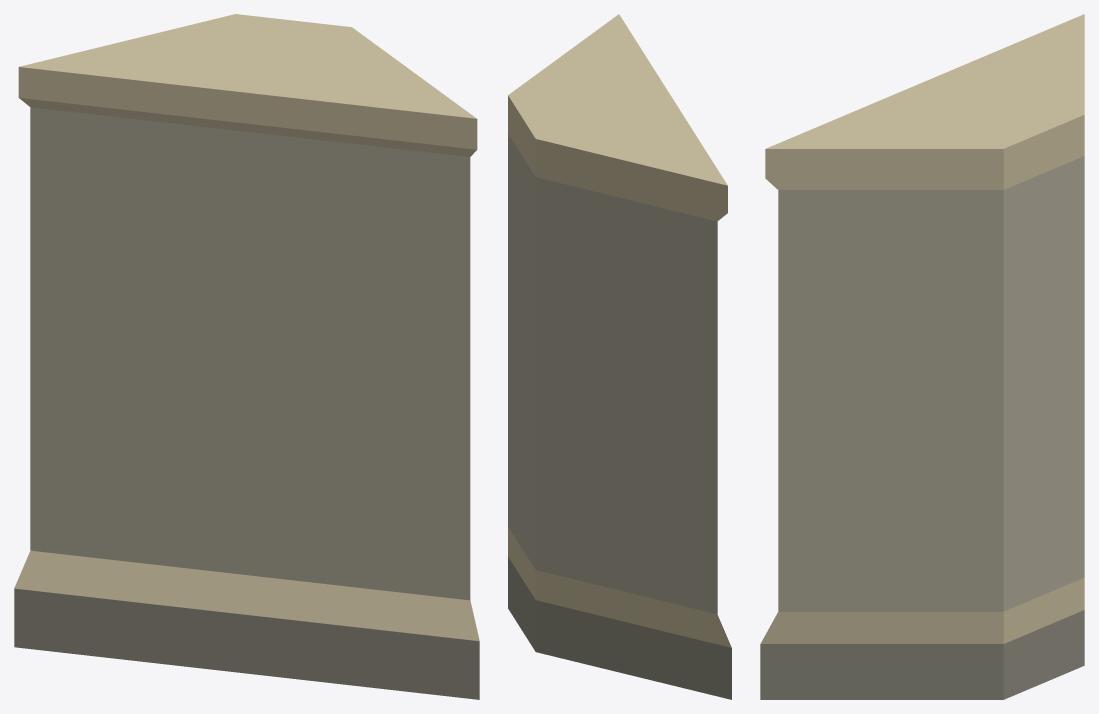
Rendered from chamfered_return.glb.
The picture shows the model from 3 angles, left to right: view 1: azimuth 30°, elevation 25°; view 2: azimuth 150°, elevation 25°; view 3: azimuth 270°, elevation 25°; orthographic projection. The views are drawn at different scales.
Visible parts, largest first — view 1: Chamfered return; view 2: Chamfered return; view 3: Chamfered return.
Boxes of the visible parts, x1,y1,x2,y2 form: Chamfered return: [14, 14, 479, 699]; Chamfered return: [508, 14, 731, 699]; Chamfered return: [760, 14, 1084, 699].
Bounding box in the file's own units: 1 × 1.88 × 1.
